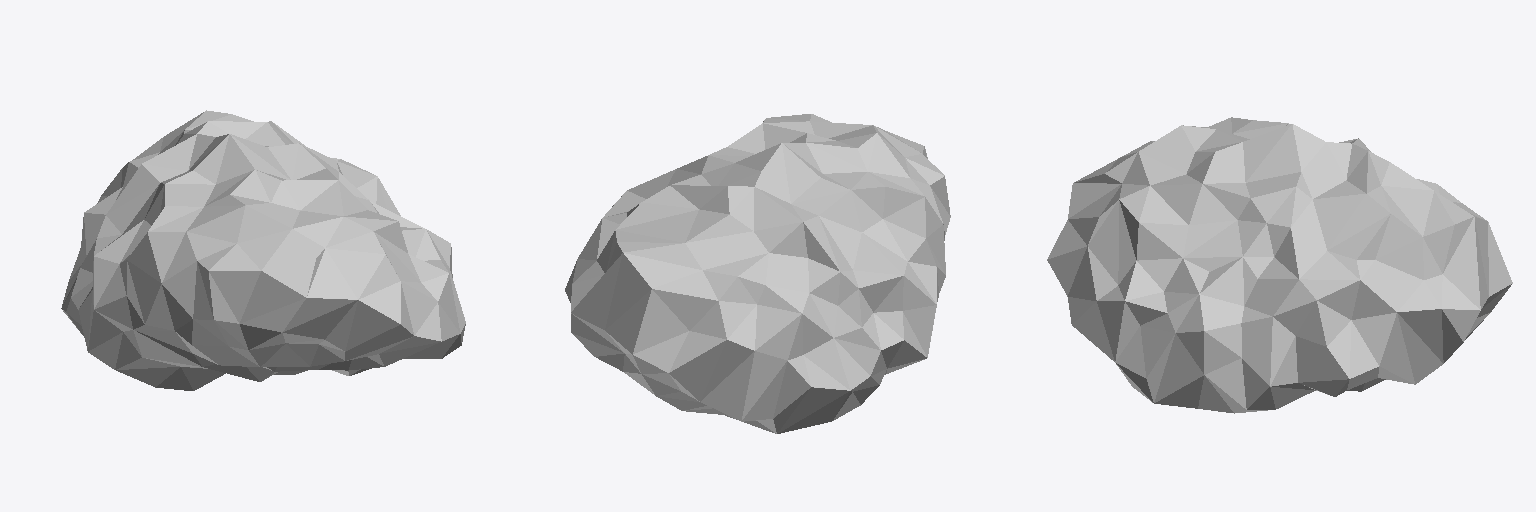
The model's file is rock_003.obj.
3 renders of one model, left to right at view 1: azimuth 30°, elevation 25°; view 2: azimuth 150°, elevation 25°; view 3: azimuth 270°, elevation 25°, orthographic.
Parts seen in each view (by area): view 1: rock.003_rock.015; view 2: rock.003_rock.015; view 3: rock.003_rock.015.
Boxes of the visible parts, x1=… form: rock.003_rock.015: x1=61, y1=110, x2=465, y2=390; rock.003_rock.015: x1=565, y1=114, x2=950, y2=433; rock.003_rock.015: x1=1047, y1=117, x2=1512, y2=413.
Bounding box in the file's own units: 5.95 × 4.21 × 7.25.